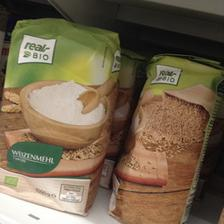Mehl: (1, 17, 121, 215), (112, 53, 220, 224)
